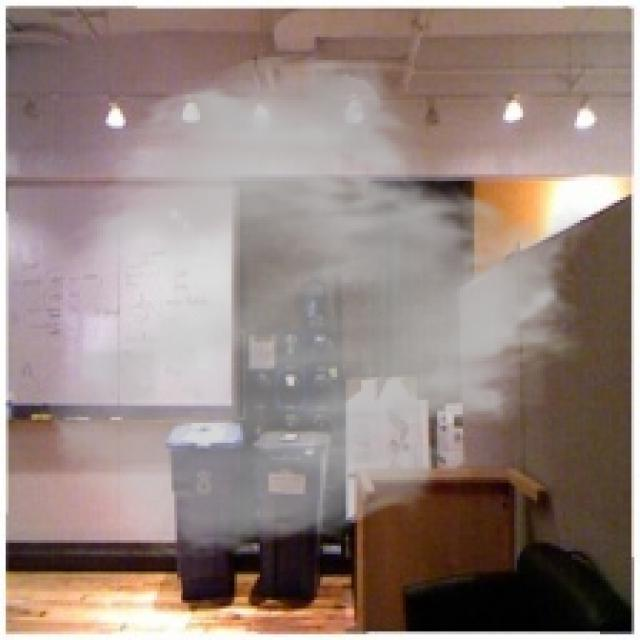Smoke: (42, 48, 598, 563)
